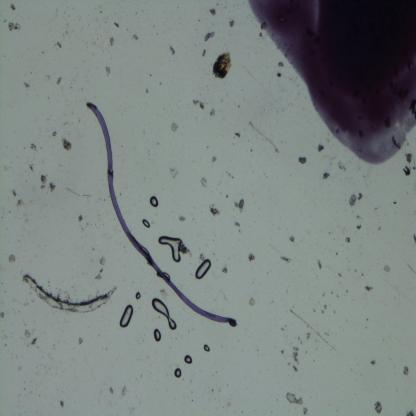Air bubble: (151, 296, 178, 330), (157, 233, 183, 264), (118, 304, 134, 329), (194, 258, 210, 282), (152, 325, 162, 343), (149, 195, 160, 208), (184, 354, 193, 367), (173, 367, 182, 379), (142, 217, 151, 229), (202, 344, 212, 352), (134, 291, 142, 301)
Background material: (289, 308, 340, 353), (247, 121, 281, 155), (213, 49, 232, 79), (286, 388, 308, 405), (176, 237, 190, 256), (292, 345, 300, 376), (192, 96, 206, 111), (209, 204, 223, 219), (60, 138, 74, 153), (168, 121, 181, 136), (7, 21, 22, 33), (246, 250, 258, 263), (297, 154, 309, 167), (203, 30, 216, 42), (235, 198, 246, 212), (316, 141, 326, 156), (280, 253, 292, 265), (402, 164, 413, 177), (94, 267, 104, 281), (382, 260, 392, 274), (170, 166, 180, 179), (200, 175, 208, 191), (119, 382, 127, 398), (170, 43, 178, 59), (321, 170, 332, 181), (75, 336, 86, 347), (14, 197, 24, 209), (404, 152, 414, 164), (6, 254, 16, 266), (277, 63, 285, 78), (209, 6, 218, 19), (108, 34, 116, 48), (39, 175, 47, 189), (348, 195, 358, 206), (29, 141, 38, 153), (208, 107, 217, 119), (99, 255, 108, 267), (160, 284, 168, 297), (104, 65, 112, 78), (316, 259, 324, 272), (402, 365, 410, 378), (234, 216, 242, 229), (374, 400, 382, 412), (30, 335, 38, 347), (365, 283, 374, 293), (221, 265, 229, 276), (107, 387, 118, 395), (50, 182, 57, 194), (55, 41, 64, 50), (345, 237, 353, 247), (10, 188, 18, 198), (289, 234, 297, 244), (334, 270, 344, 278), (248, 298, 256, 308), (233, 128, 240, 139), (369, 358, 378, 366), (0, 308, 6, 320), (131, 34, 140, 42), (22, 82, 31, 90), (357, 192, 364, 202), (9, 2, 16, 12), (230, 20, 237, 30), (58, 399, 64, 410), (201, 48, 209, 56), (178, 216, 187, 223), (56, 76, 62, 86), (211, 154, 217, 164), (22, 329, 32, 335), (201, 250, 206, 262), (411, 233, 416, 244), (52, 129, 58, 138), (78, 214, 84, 223), (356, 222, 362, 231), (405, 410, 414, 416), (301, 407, 308, 414), (225, 191, 229, 201), (323, 302, 328, 310), (306, 331, 310, 341), (113, 22, 121, 27), (280, 348, 284, 355), (145, 86, 148, 94), (321, 292, 325, 298), (159, 79, 162, 86), (360, 272, 364, 277), (336, 293, 340, 298), (282, 327, 286, 332), (345, 288, 349, 293), (366, 317, 370, 322), (18, 366, 22, 370), (330, 291, 334, 295), (336, 253, 339, 256), (322, 310, 324, 314), (354, 270, 357, 271)
Cellulose filter fibre: (18, 274, 121, 313)
Hair textile: (85, 102, 240, 327)
Pen: (247, 0, 416, 164)
